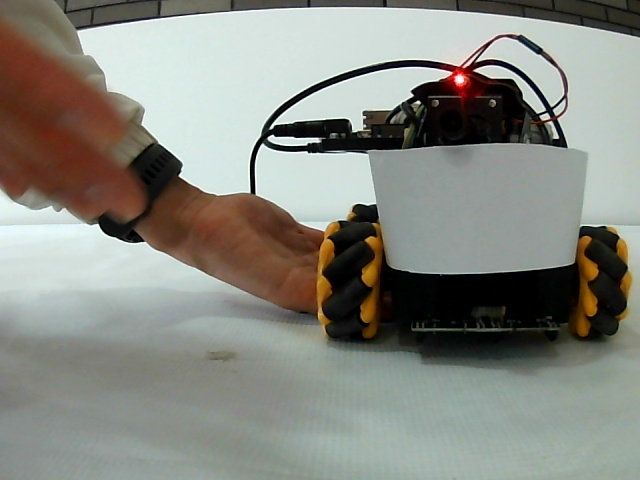car: (318, 61, 627, 335)
paper: (371, 150, 576, 269)
